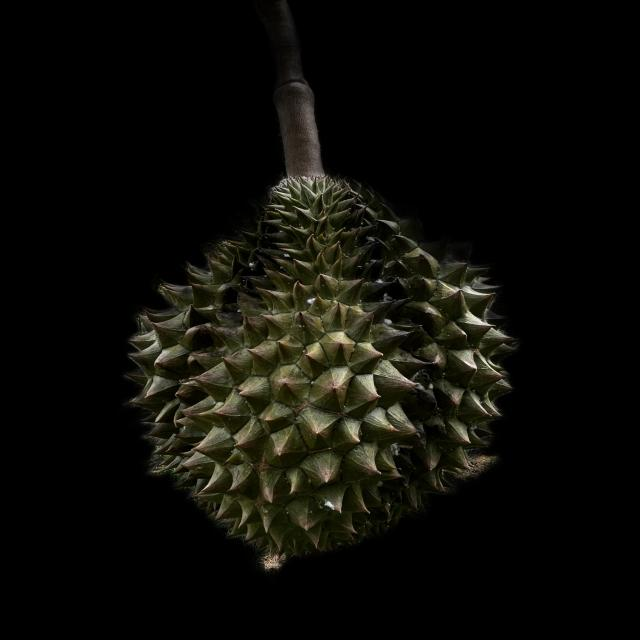immature: (128, 181, 516, 566)
